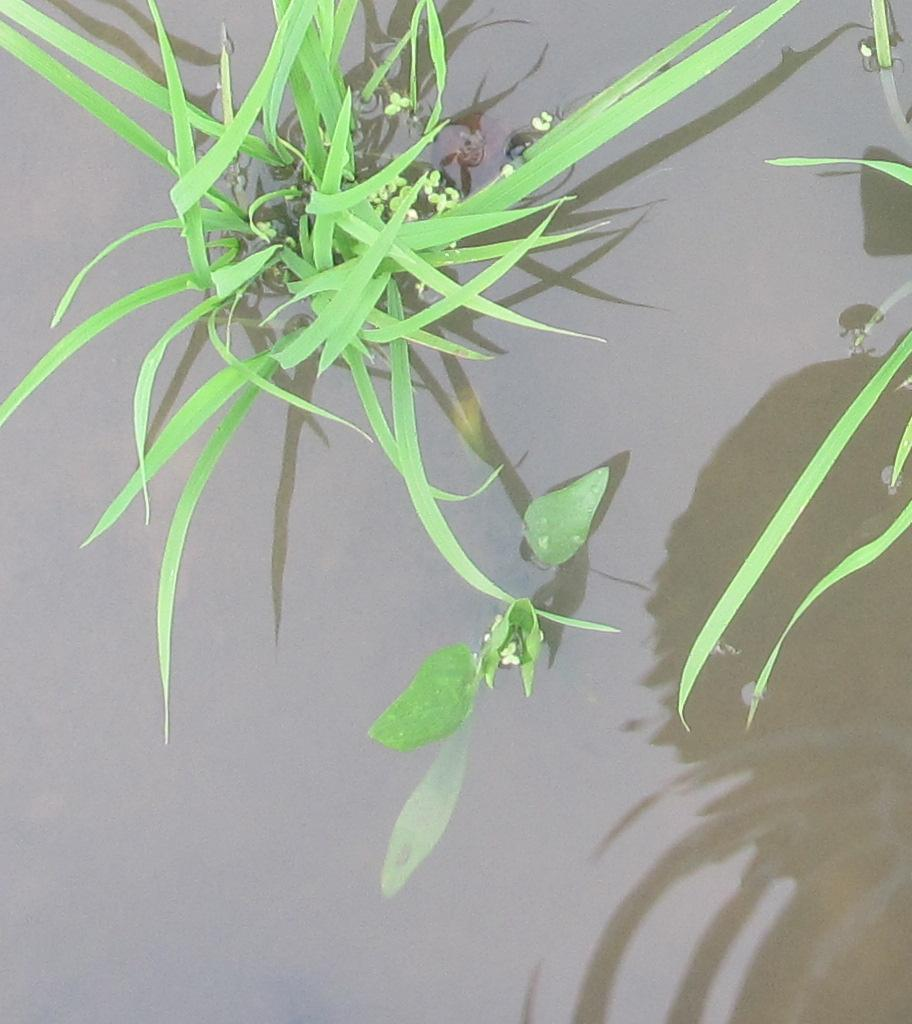Weed: (372, 638, 477, 755), (517, 461, 627, 560)
